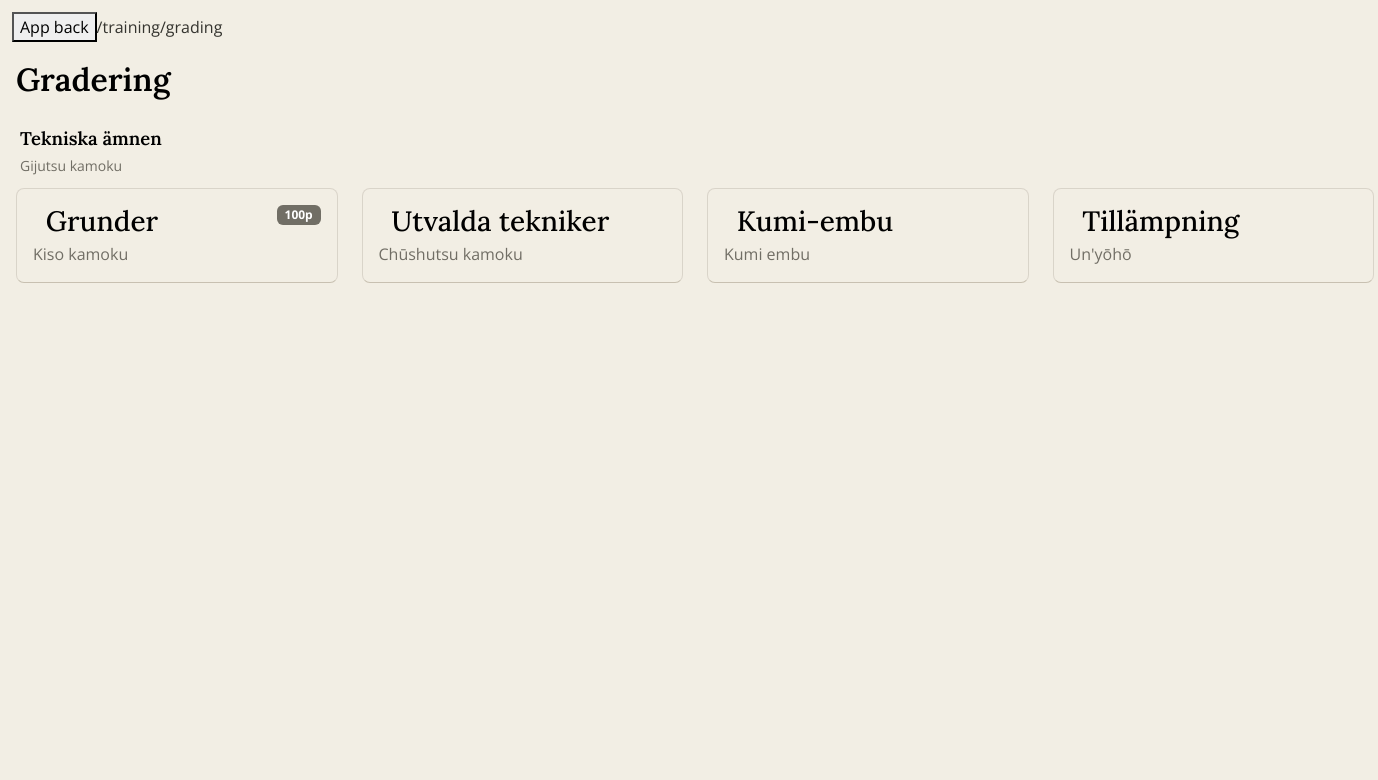
Test case: GradingTest subject split › shows grading kumi-embu with the same calm sequence list as free practice
This screenshot has width=1378, height=780.
Click the button "Kumi-embu Kumi embu" at point(868, 236), box [707, 188, 1028, 283]
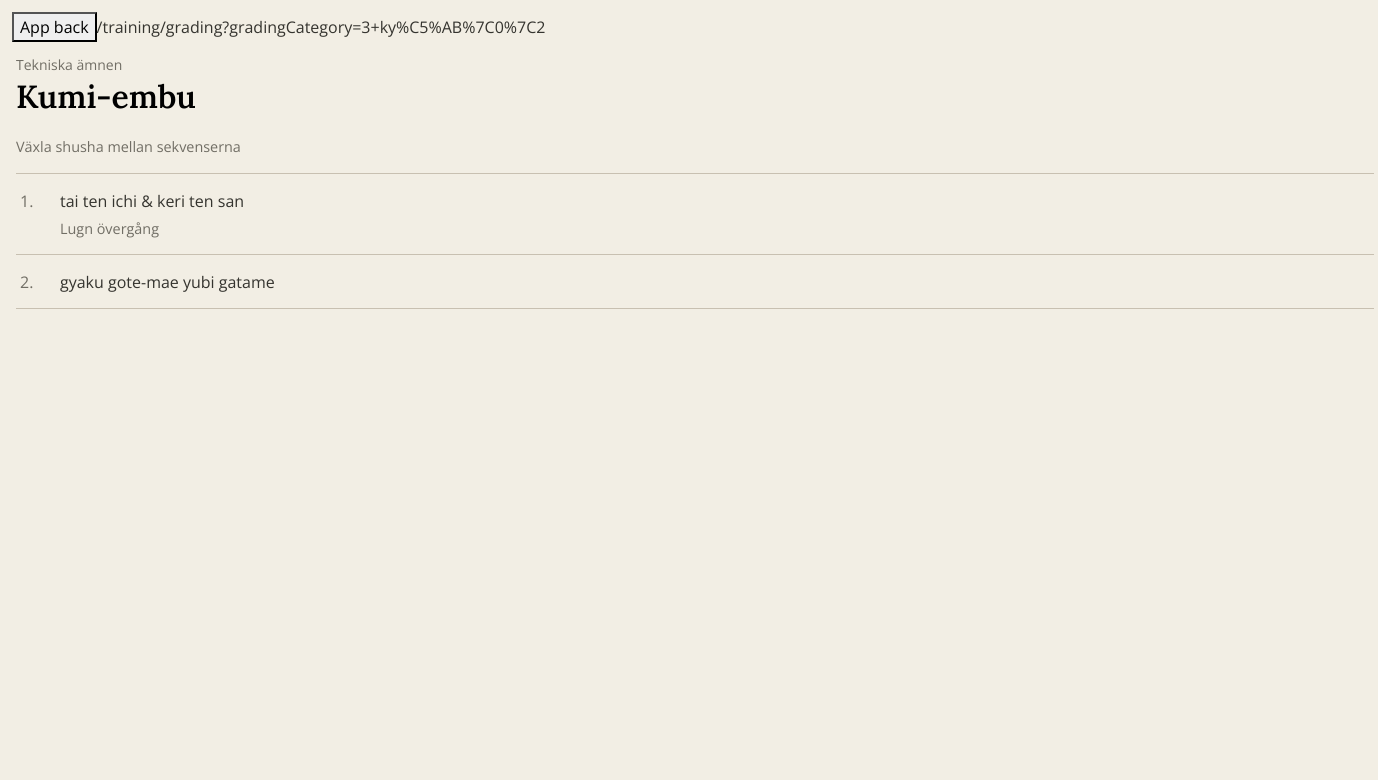
Expected: the heading "Kumi-embu" is shown, [16, 79, 196, 116]
Expected: the text "Växla shusha mellan sekvenserna" is shown, [16, 137, 241, 156]
Expected: the text "Lugn övergång" is shown, [60, 219, 159, 238]
Click the button with aria-label "Visa teknik Mae yubi gatame" at point(210, 282), box [146, 270, 275, 294]
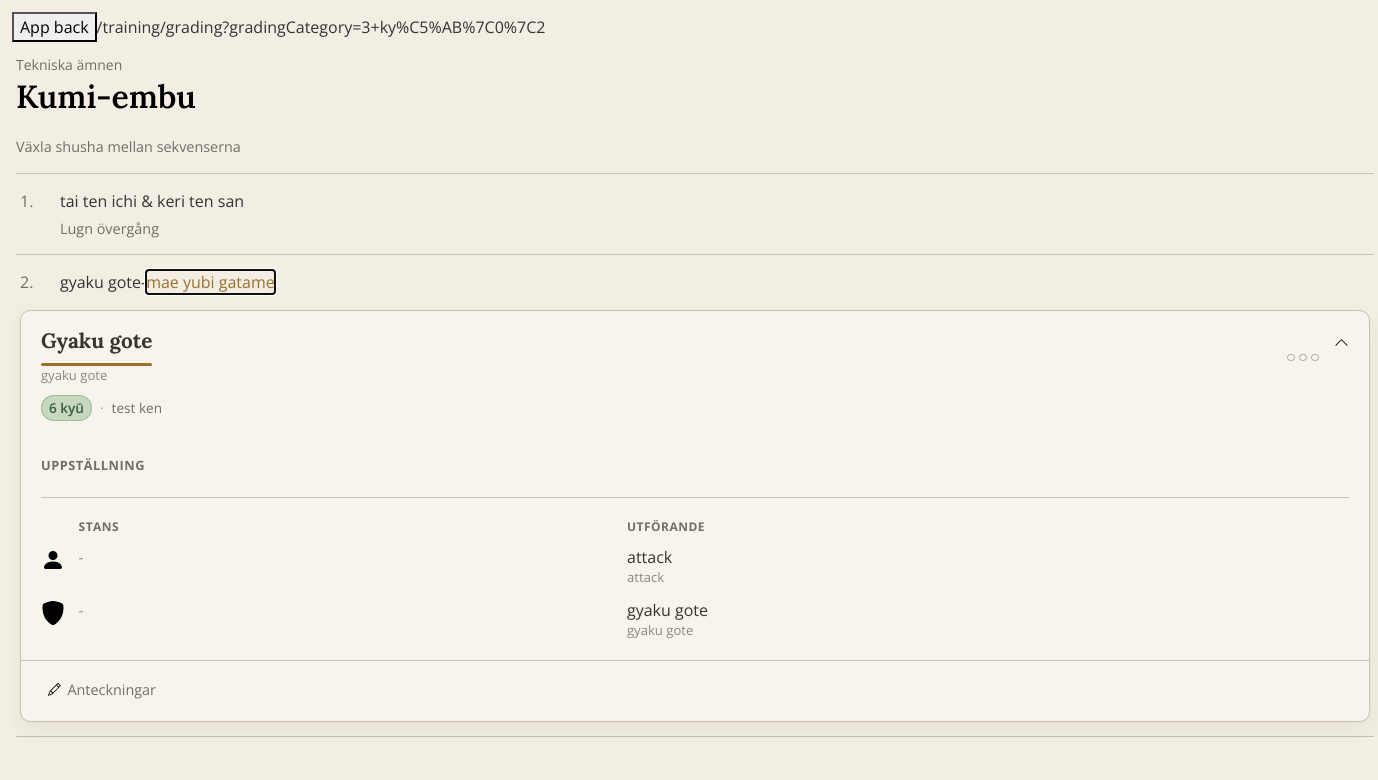
Expected: the element with class "kumi-embu-technique-preview" is shown, [20, 310, 1370, 722]
Expected: the text with class "kamoku-card-name" reads "Gyaku gote", [41, 327, 152, 354]
